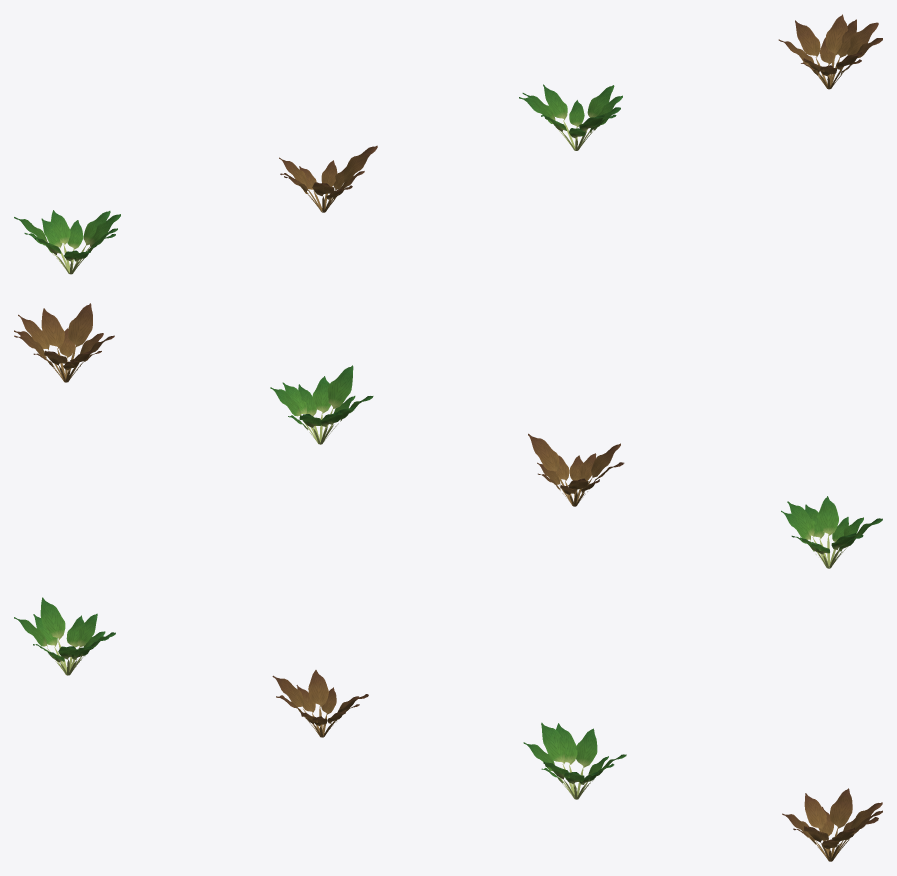
3 views of the same model, one above another, from view 1: azimuth 30°, elevation 25°; view 2: azimuth 150°, elevation 25°; view 3: azimuth 330°, elevation 25° (orthographic).
Parts seen in each view (by area): view 1: cryptocoryne.003, cryptocoryne, cryptocoryne.002, cryptocoryne.001; view 2: cryptocoryne.003, cryptocoryne.002, cryptocoryne, cryptocoryne.001; view 3: cryptocoryne.002, cryptocoryne, cryptocoryne.003, cryptocoryne.001.
Part boxes in pixels (x1,y1,x2,y2): cryptocoryne.003: [778, 14, 882, 89]; cryptocoryne: [14, 210, 120, 274]; cryptocoryne.002: [519, 84, 622, 150]; cryptocoryne.001: [279, 145, 377, 212]; cryptocoryne.003: [14, 303, 114, 382]; cryptocoryne.002: [270, 365, 373, 444]; cryptocoryne: [781, 496, 882, 568]; cryptocoryne.001: [528, 433, 624, 506]; cryptocoryne.002: [523, 722, 626, 799]; cryptocoryne: [14, 597, 115, 675]; cryptocoryne.003: [782, 788, 882, 861]; cryptocoryne.001: [272, 670, 368, 737].
Size of the model in its own units: 10.11 by 0.6486 by 1.14.
1 material, 1 textured.
